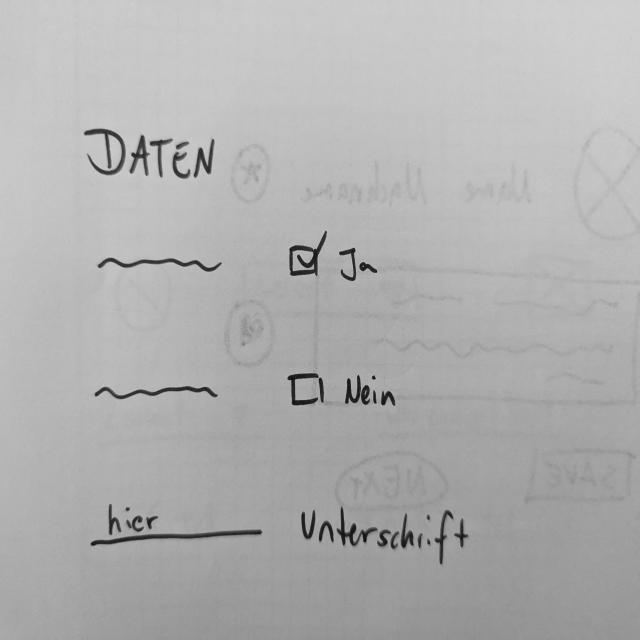checkbox: (286, 368, 402, 418), (287, 228, 382, 286)
input: (91, 496, 267, 551)
label: (295, 502, 472, 572), (82, 125, 219, 188)
text: (95, 253, 228, 279), (91, 382, 220, 407)
